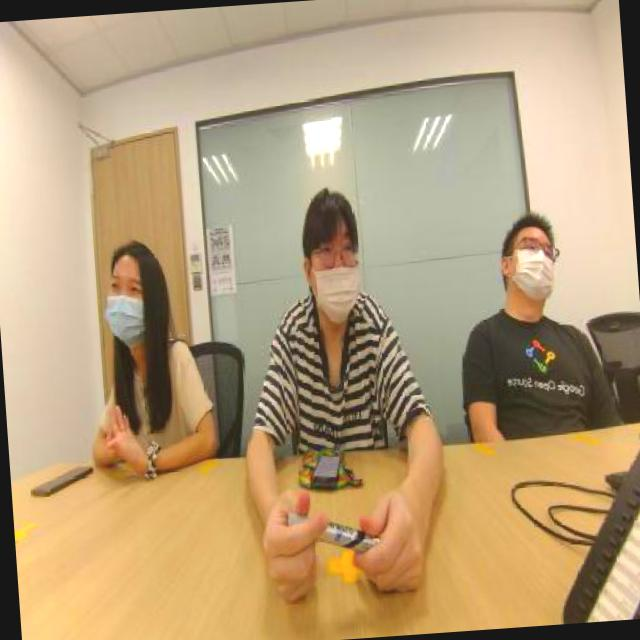Person: (418, 169, 614, 461), (245, 146, 418, 454), (66, 171, 215, 468)
